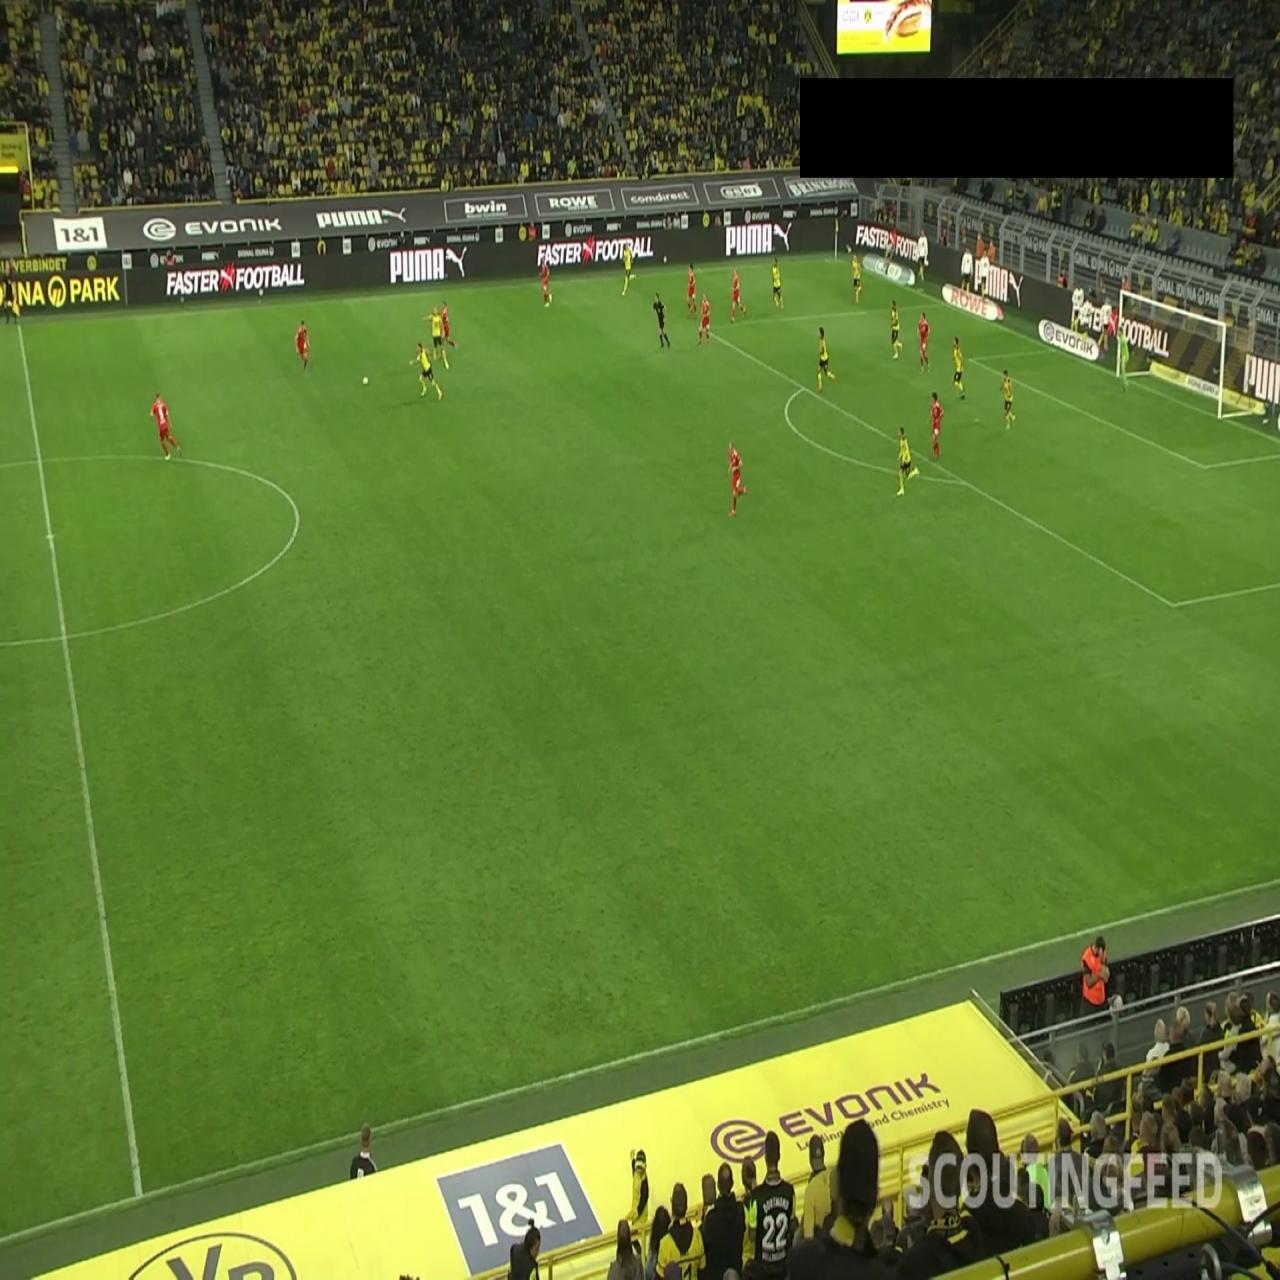ball: (362, 375, 369, 387)
goalkeeper: (1116, 325, 1130, 392)
player: (150, 391, 182, 460), (408, 340, 444, 401), (420, 302, 449, 371), (897, 427, 921, 495), (726, 438, 746, 516), (817, 326, 836, 393), (929, 391, 944, 460), (999, 369, 1015, 429), (917, 311, 931, 374), (730, 268, 746, 322), (622, 242, 637, 297), (952, 336, 965, 398), (295, 319, 310, 372), (441, 301, 456, 353), (698, 293, 712, 346), (771, 256, 784, 309), (891, 298, 902, 359), (852, 251, 864, 305), (540, 260, 552, 306), (686, 263, 696, 315)
referee: (653, 292, 671, 349), (4, 265, 20, 326)
